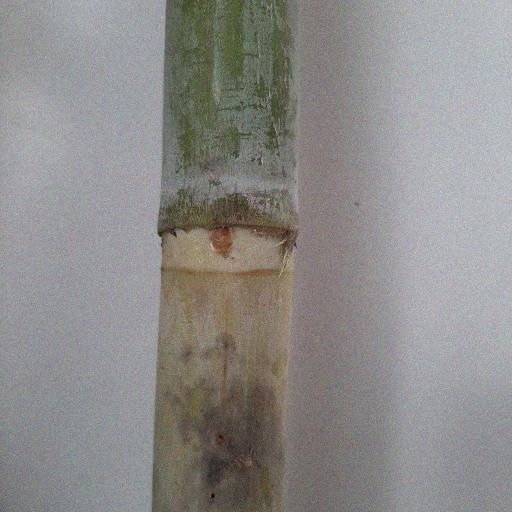Damage_Bud: (208, 228, 235, 259)
